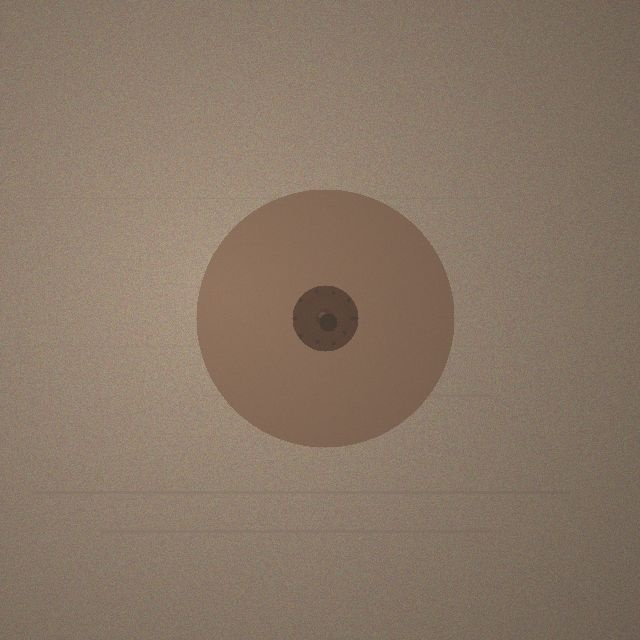cold_weld: (196, 189, 454, 447)
